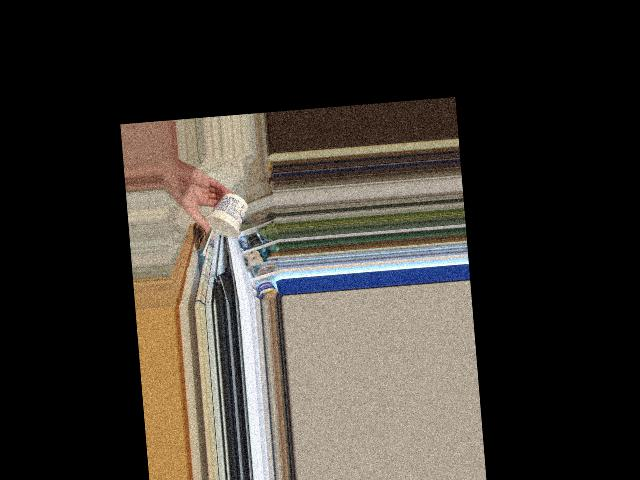cotage: (204, 198, 248, 242)
